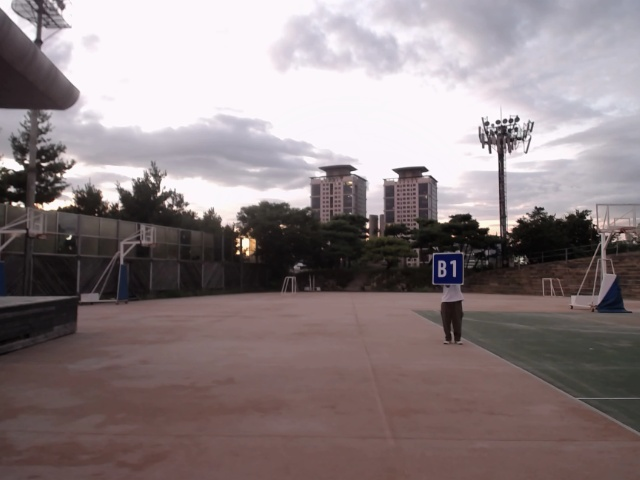delivery_b1: (433, 253, 464, 284)
